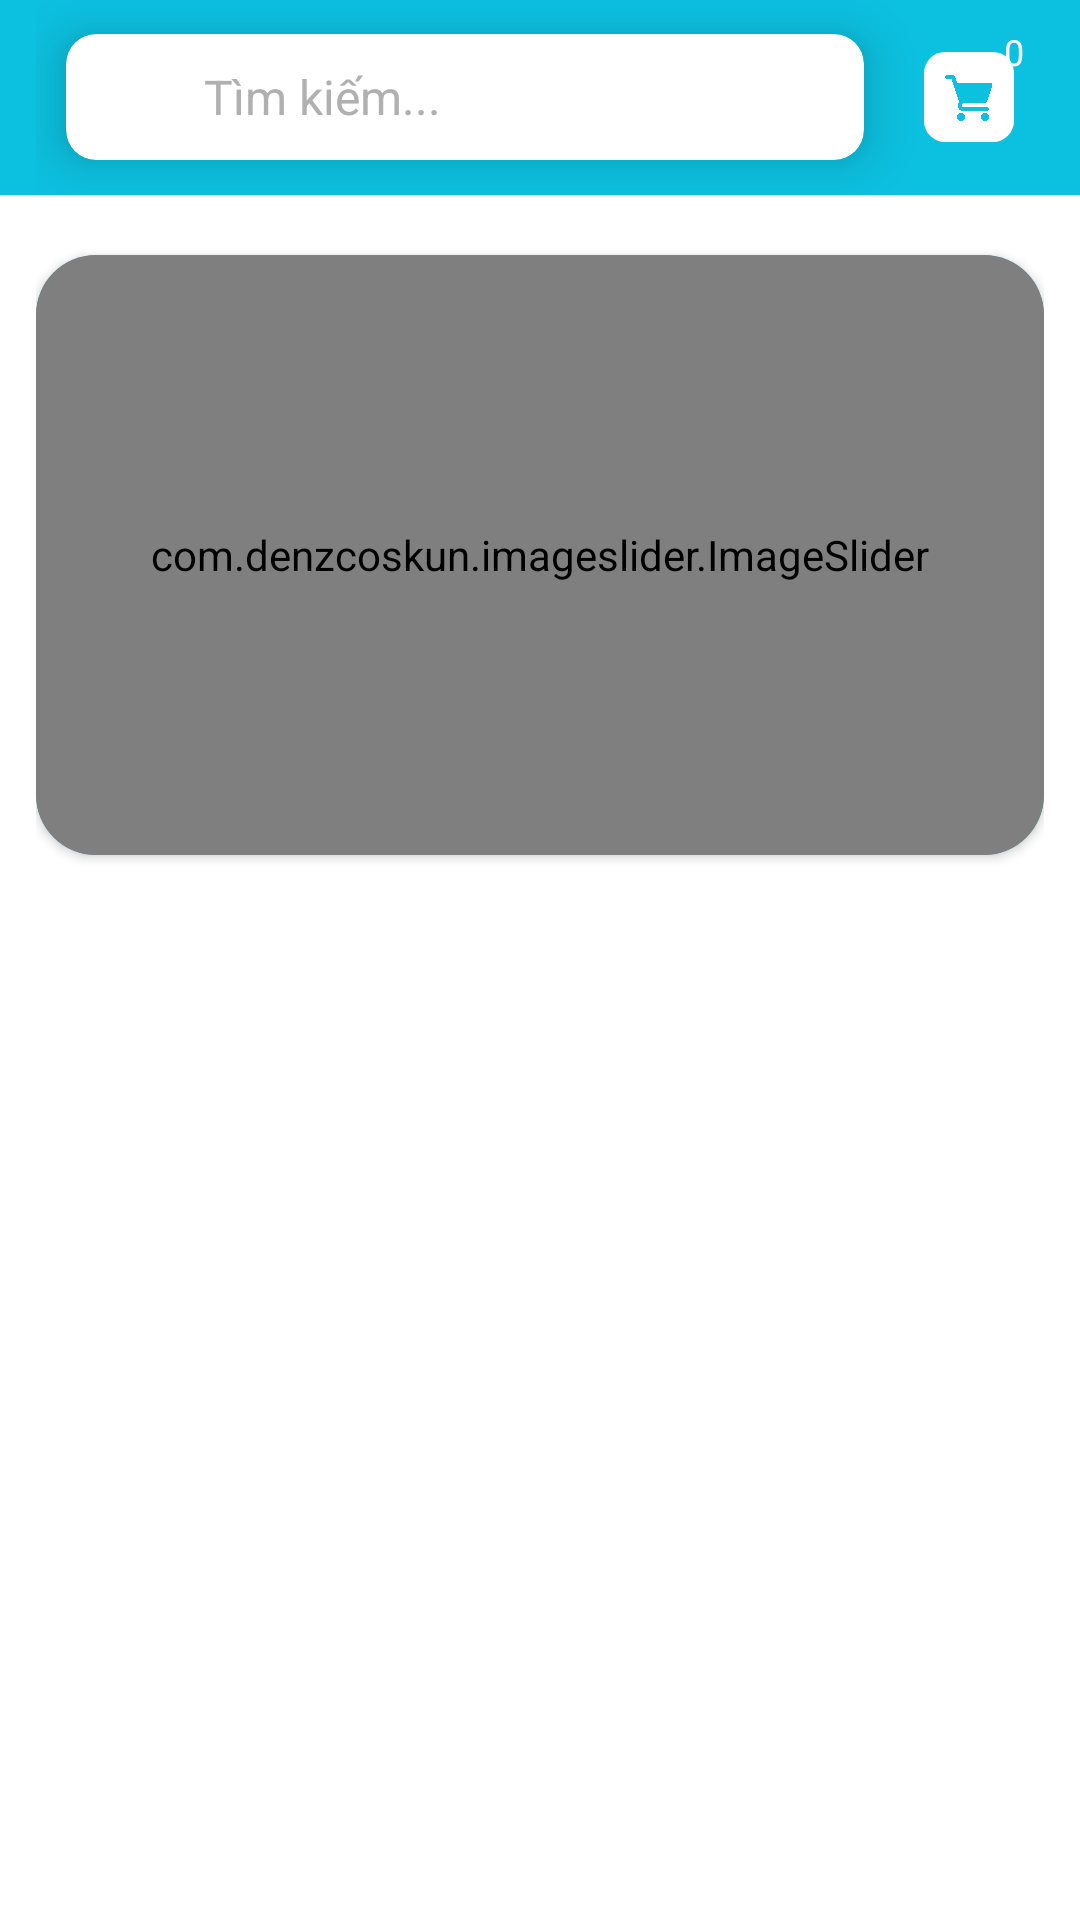

Point at icon controls on the screen. Image size 1080 x 1920, points as (x,y).
giohang: (969,97)
